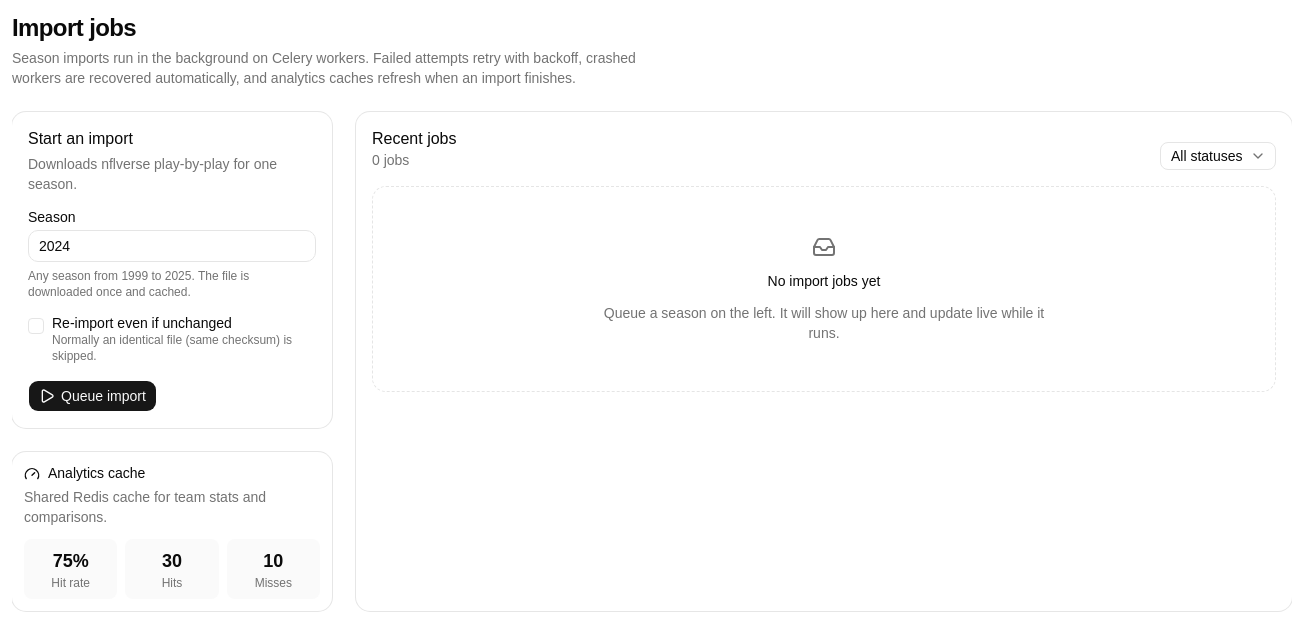
Test: JobsPage › filters by status through the URL
Select "Failed" in the dropdown named "Filter by status" at {"x": 1218, "y": 156}, box [1160, 142, 1276, 170]
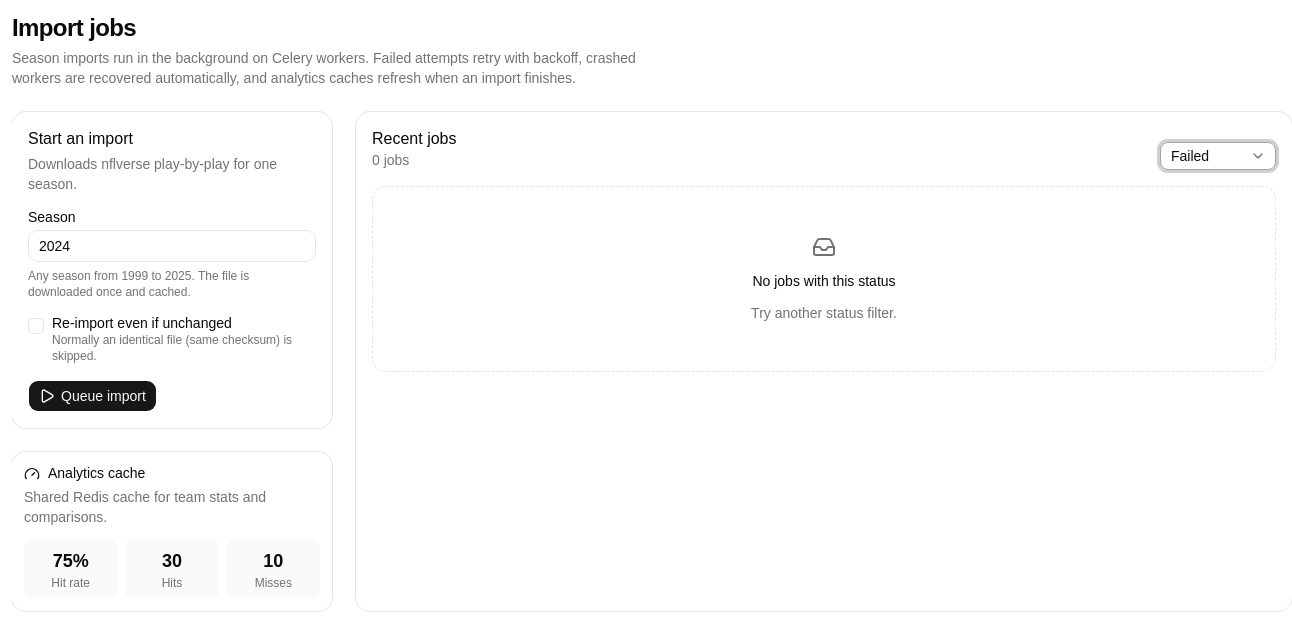
expect the text "No jobs with this status" is shown: met, box [752, 271, 896, 291]
